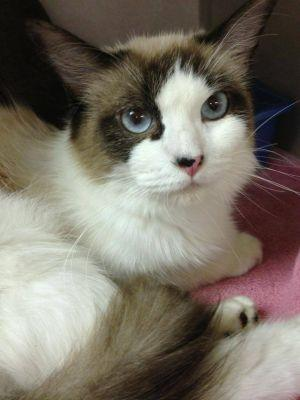ragdoll: (25, 1, 287, 233)
